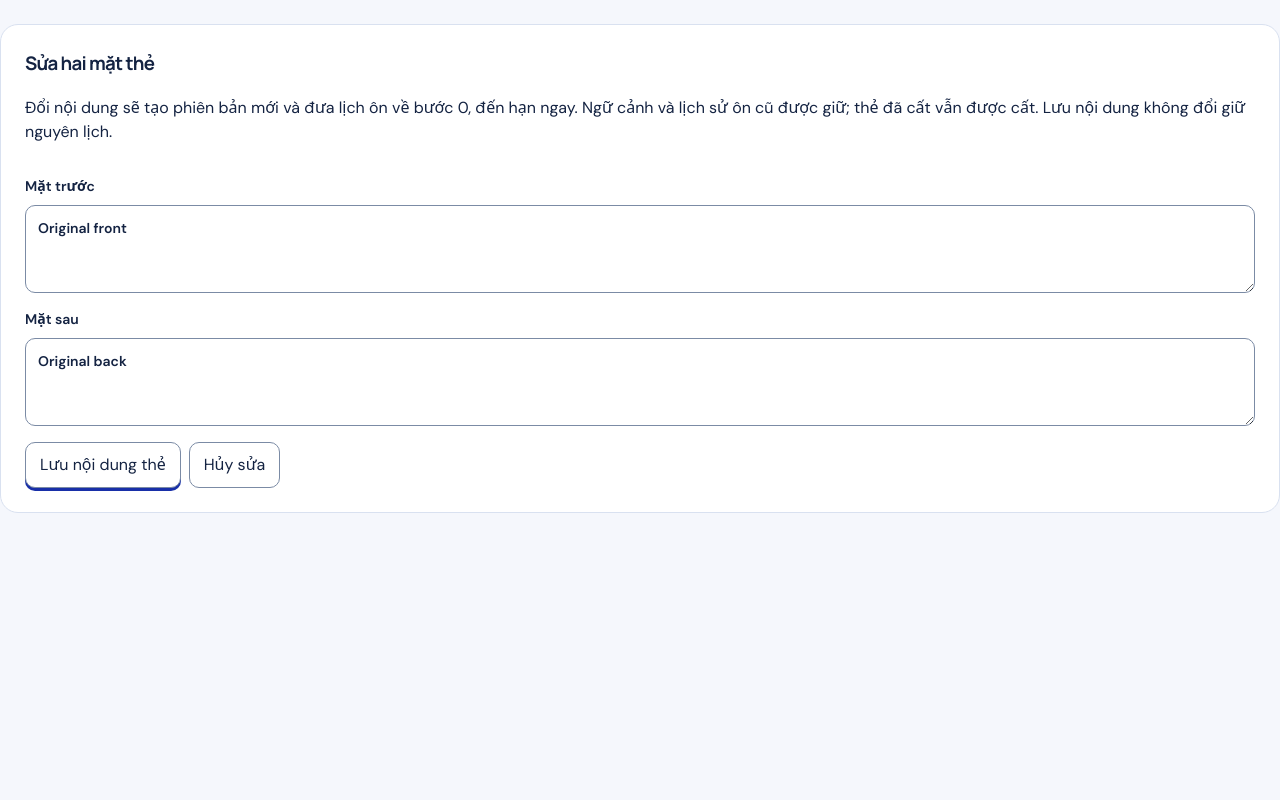
versioned card editor › preserves stale drafts until explicit comparison then uses a fresh etag and command
Later steps or results of the test are not shown.
Submit the form, box top-left (25, 160), bottom-right (1255, 488)
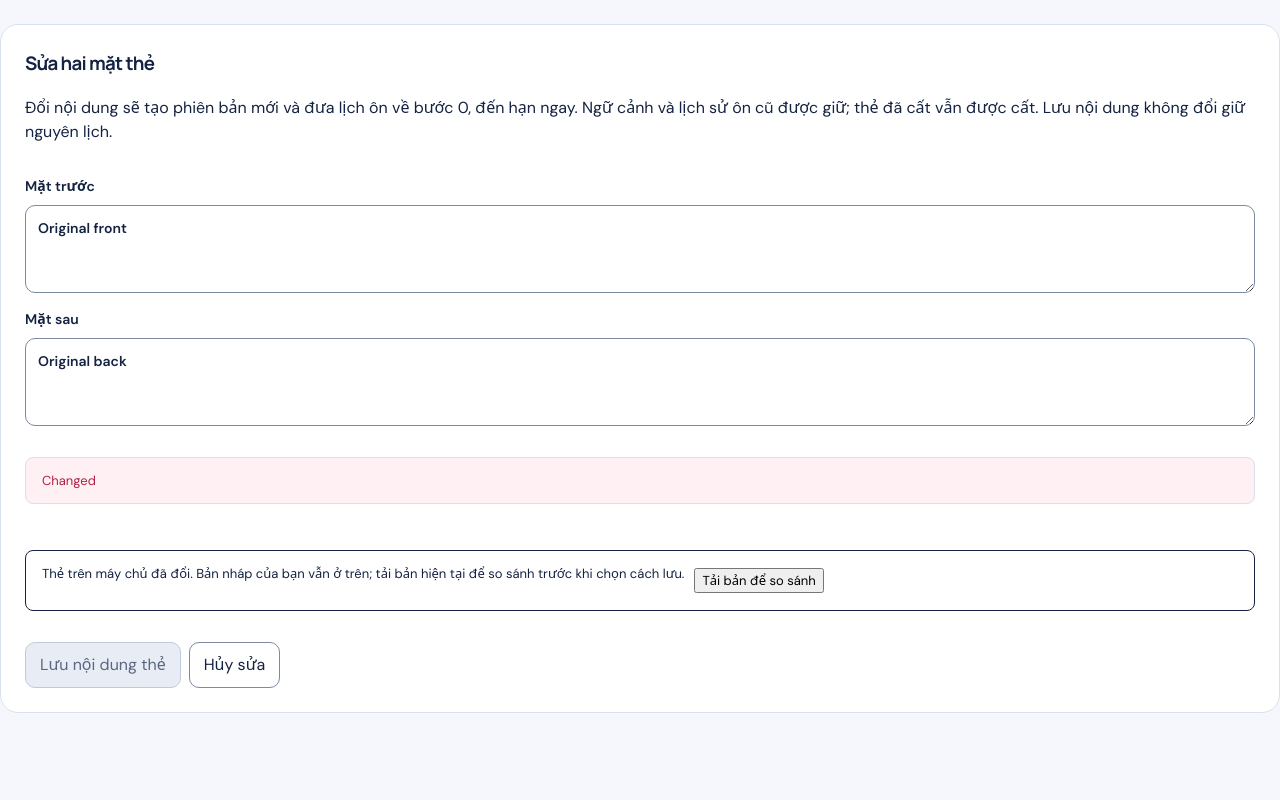
Expected: the text box labelled "Mặt trước" holds "Original front", top-left (25, 205), bottom-right (1255, 293)
Expected: the button "Tải bản để so sánh" is shown
Click the button "Tải bản để so sánh" at (759, 581), box top-left (694, 568), bottom-right (824, 593)
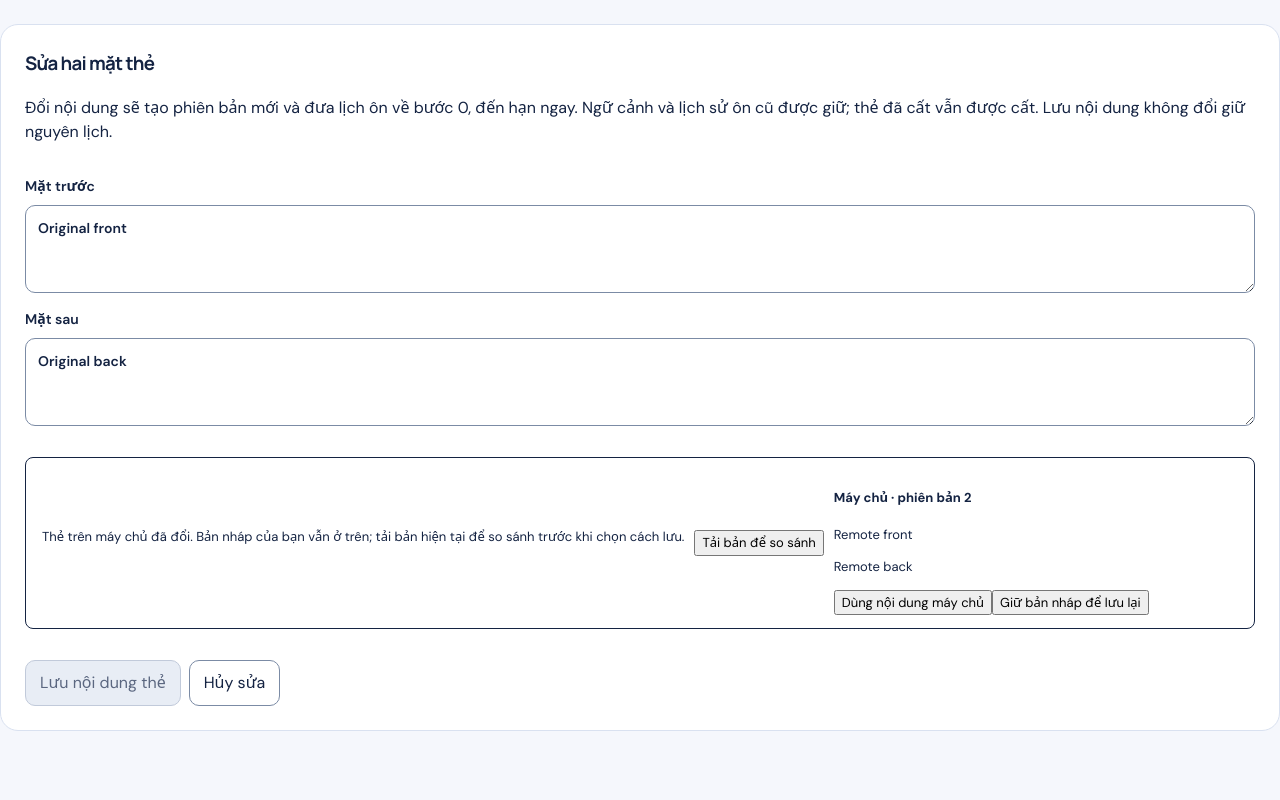
Expected: the element named "Nội dung hiện tại trên máy chủ" shows "Remote back", top-left (834, 558), bottom-right (912, 575)
Expected: the button "Giữ bản nháp để lưu lại" is shown, top-left (992, 590), bottom-right (1149, 615)
